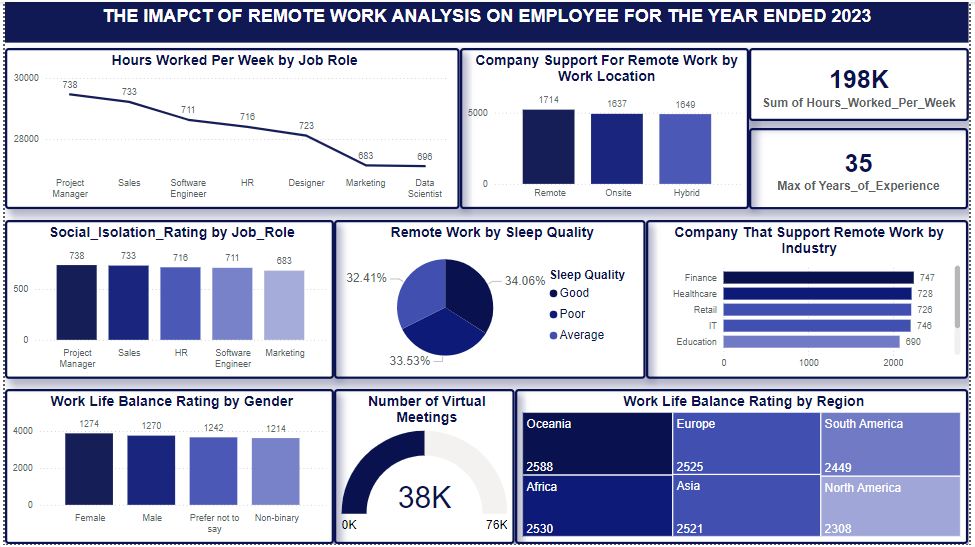

The dashboard page shown, as its layout file describes it:
{"tool":"powerbi","page":{"name":"Page 1","canvas":[1280,720],"ordinal":0},"visuals":[{"type":"textbox","box":[0,0,1280,54.2],"z":0},{"type":"columnChart","title":"Social_Isolation_Rating by Job_Role","fields":{"Category":["Impact_of_Remote_Work_on_Mental.Job_Role"],"Y":["CountNonNull(Impact_of_Remote_Work_on_Mental.Social_Isolation_Rating)"]},"box":[0,289.6,437,211.2],"z":1000},{"type":"clusteredBarChart","title":"Company That Support Remote Work by Industry","fields":{"Category":["Impact_of_Remote_Work_on_Mental.Industry"],"Y":["Sum(Impact_of_Remote_Work_on_Mental.Company_Support_for_Remote_Work)"]},"box":[851.5,289.6,427.7,211.2],"z":2000},{"type":"lineChart","title":"Hours Worked Per Week by Job Role","fields":{"Y":["Sum(Impact_of_Remote_Work_on_Mental.Hours_Worked_Per_Week)"],"Category":["Impact_of_Remote_Work_on_Mental.Job_Role"]},"box":[0,60.8,604.1,213.5],"z":3000},{"type":"treemap","title":" Work Life Balance Rating by Region","fields":{"Group":["Impact_of_Remote_Work_on_Mental.Region"],"Values":["Sum(Impact_of_Remote_Work_on_Mental.Work_Life_Balance_Rating)"]},"box":[677.4,513.9,601.2,206.4],"z":4000},{"type":"columnChart","title":"Work Life Balance Rating by Gender","fields":{"Category":["Impact_of_Remote_Work_on_Mental.Gender"],"Y":["Sum(Impact_of_Remote_Work_on_Mental.Work_Life_Balance_Rating)"]},"box":[0,514.1,437,205.9],"z":5000},{"type":"columnChart","title":"Company Support For Remote Work by Work Location","fields":{"Category":["Impact_of_Remote_Work_on_Mental.Work_Location"],"Y":["Sum(Impact_of_Remote_Work_on_Mental.Company_Support_for_Remote_Work)"]},"box":[604.1,60.8,383.8,213.5],"z":6000},{"type":"gauge","title":" Number of Virtual Meetings","fields":{"Y":["Sum(Impact_of_Remote_Work_on_Mental.Number_of_Virtual_Meetings)"]},"box":[437,514.1,240.4,205.9],"z":7000},{"type":"pieChart","title":"Remote Work by Sleep Quality","fields":{"Category":["Impact_of_Remote_Work_on_Mental.Sleep_Quality"],"Y":["Sum(Impact_of_Remote_Work_on_Mental.Company_Support_for_Remote_Work)"]},"box":[437,289.6,414.5,211.2],"z":8000},{"type":"card","fields":{"Values":["Sum(Impact_of_Remote_Work_on_Mental.Hours_Worked_Per_Week)"]},"box":[987.8,60.8,291.9,97.3],"z":9000},{"type":"card","fields":{"Values":["Max(Impact_of_Remote_Work_on_Mental.Years_of_Experience)"]},"box":[988.3,167.4,290.9,107.6],"z":10000}]}

Visuals, with their boxes in screenshot pixels (x1, y1, x2, y2), scaled from the page's 1280x720 canvas onto the 975x547 screenshot:
textbox: x1=0, y1=0, x2=974, y2=41
"Social_Isolation_Rating by Job_Role" columnChart: x1=0, y1=220, x2=333, y2=380
"Company That Support Remote Work by Industry" clusteredBarChart: x1=649, y1=220, x2=974, y2=380
"Hours Worked Per Week by Job Role" lineChart: x1=0, y1=46, x2=460, y2=208
" Work Life Balance Rating by Region" treemap: x1=516, y1=390, x2=974, y2=546
"Work Life Balance Rating by Gender" columnChart: x1=0, y1=391, x2=333, y2=546
"Company Support For Remote Work by Work Location" columnChart: x1=460, y1=46, x2=753, y2=208
" Number of Virtual Meetings" gauge: x1=333, y1=391, x2=516, y2=546
"Remote Work by Sleep Quality" pieChart: x1=333, y1=220, x2=649, y2=380
card - Sum(Impact_of_Remote_Work_on_Mental.Hours_Worked_Per_Week): x1=752, y1=46, x2=974, y2=120
card - Max(Impact_of_Remote_Work_on_Mental.Years_of_Experience): x1=753, y1=127, x2=974, y2=209
